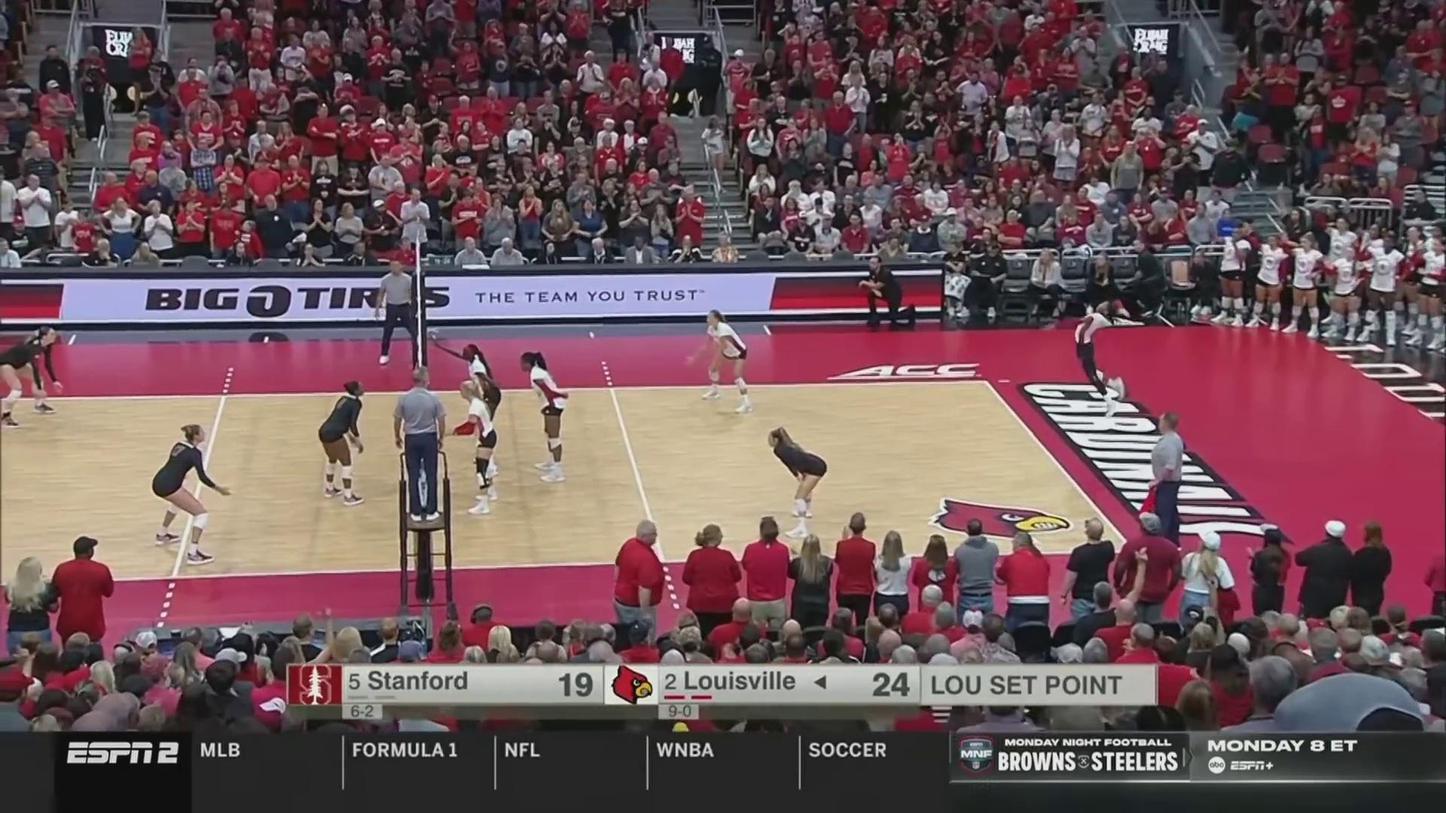player: (152, 423, 235, 561), (1050, 297, 1127, 416), (446, 379, 500, 513), (450, 341, 501, 477), (519, 351, 569, 486), (769, 429, 828, 540), (317, 379, 368, 505), (695, 311, 754, 410), (0, 328, 60, 424)
refree: (391, 366, 449, 519), (1143, 410, 1185, 554), (374, 258, 421, 368)
